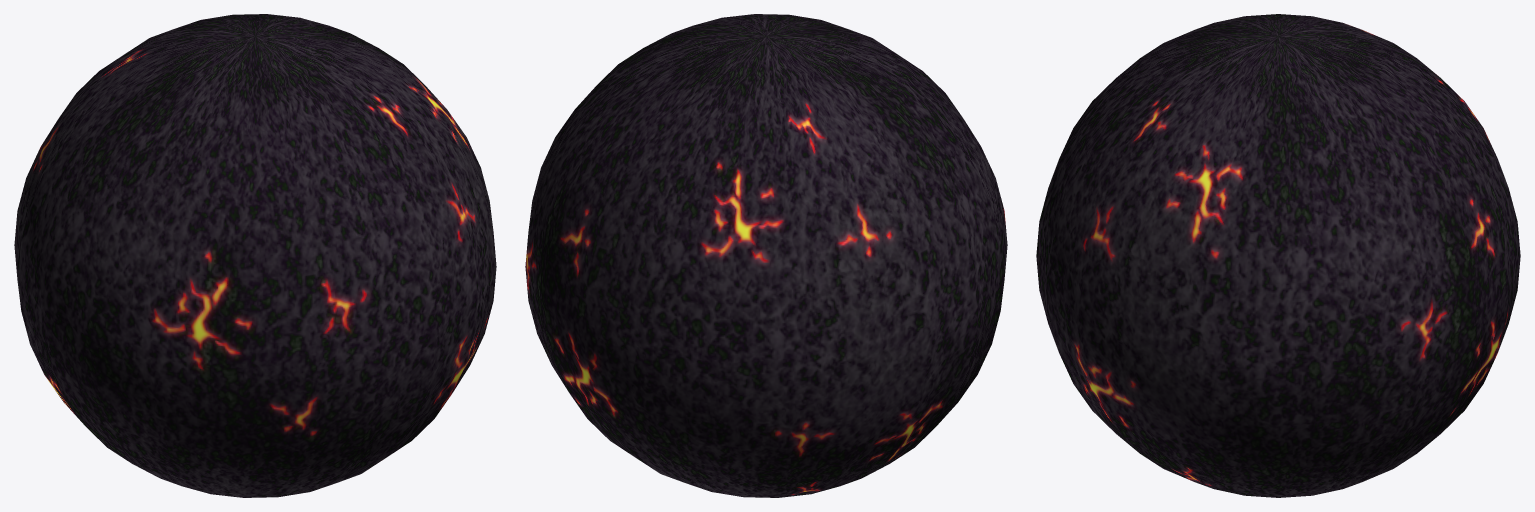
The model's file is planet.obj.
3 views of the same model, side by side, from view 1: azimuth 30°, elevation 25°; view 2: azimuth 150°, elevation 25°; view 3: azimuth 270°, elevation 25° (orthographic).
Parts seen in each view (by area): view 1: pSphere1 Mesh; view 2: pSphere1 Mesh; view 3: pSphere1 Mesh.
Part boxes in pixels (bbox=[...]): pSphere1 Mesh: bbox=[14, 14, 496, 497]; pSphere1 Mesh: bbox=[525, 14, 1007, 497]; pSphere1 Mesh: bbox=[1036, 14, 1520, 497].
Bounding box in the file's own units: 2 × 2 × 2.
